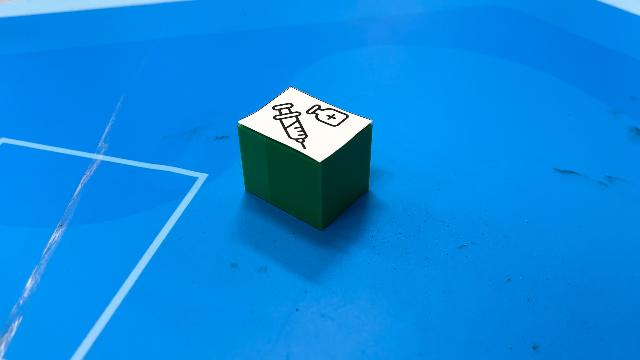syringe: (237, 86, 373, 230)
